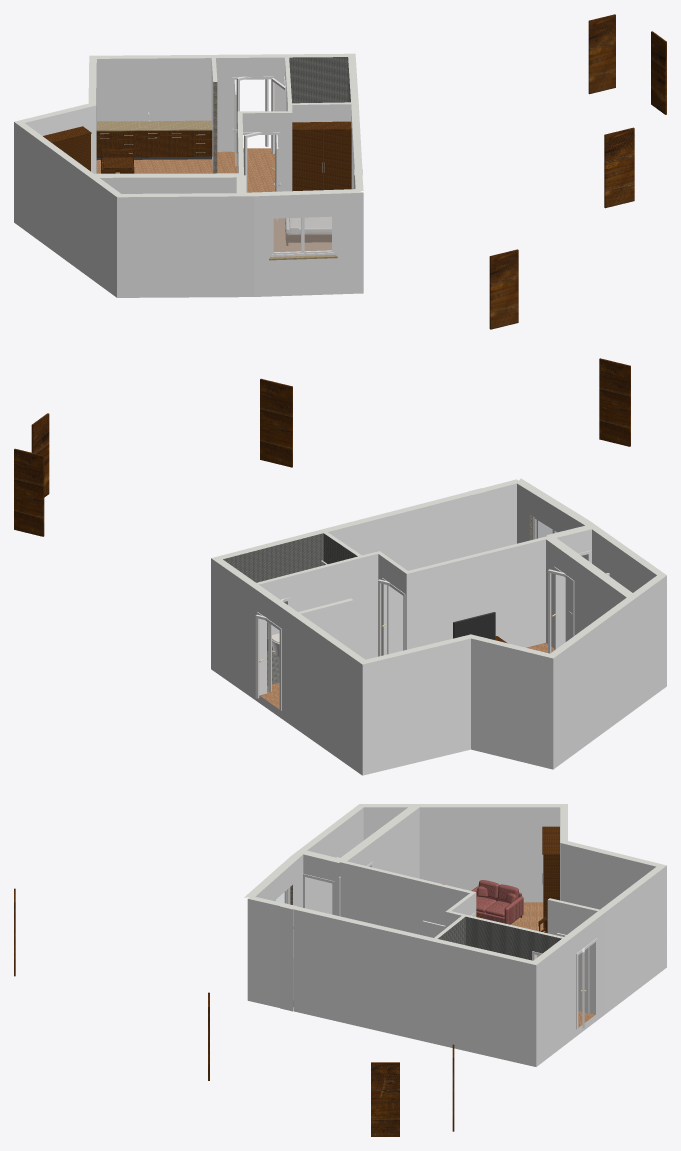
The model's file is apartment_with_doors.glb.
3 views of the same model, one above another, from view 1: azimuth 30°, elevation 25°; view 2: azimuth 150°, elevation 25°; view 3: azimuth 270°, elevation 25° (orthographic). The views are drawn at different scales.
Visible parts, largest first — view 1: f_jjm66qyl26:#ffffff, f_jjm66qyl26:arch:cap, wardrobe_2:wood.001, f_jjm66qyl26:oak, counter_straight:cabinets, f_jjm66qyl26:tile_white, Door_Bedroom_Leaf, Door_Living_Corridor_Leaf, Door_Kitchen_Leaf, f_jjm66qyl26:arch:glass, counter_straight:countertop, Door_Bathroom_Leaf (+2 smaller); view 2: f_jjm66qyl26:#ffffff, f_jjm66qyl26:arch:cap, f_jjm66qyl26:tile_white, Door_Bedroom_Leaf, Door_Living_Corridor_Leaf, Door_Kitchen_Leaf, Door_Bathroom_Leaf, tv_unit:screen; view 3: f_jjm66qyl26:#ffffff, f_jjm66qyl26:arch:cap, f_jjm66qyl26:tile_white, Door_Bathroom_Leaf, sofa_3:upholstery, wardrobe_2:wood, f_jjm66qyl26:oak.
Part boxes in pixels (box(x1,y1,x2,y2)): f_jjm66qyl26:#ffffff: box(14, 57, 363, 297); f_jjm66qyl26:arch:cap: box(14, 53, 363, 197); wardrobe_2:wood.001: box(292, 121, 354, 191); f_jjm66qyl26:oak: box(96, 148, 331, 252); counter_straight:cabinets: box(96, 130, 212, 157); f_jjm66qyl26:tile_white: box(289, 57, 350, 103); Door_Bedroom_Leaf: box(604, 127, 634, 208); Door_Living_Corridor_Leaf: box(489, 249, 518, 329); Door_Kitchen_Leaf: box(588, 14, 615, 94); f_jjm66qyl26:arch:glass: box(273, 216, 331, 252); counter_straight:countertop: box(96, 120, 212, 131); Door_Bathroom_Leaf: box(651, 31, 666, 114); f_jjm66qyl26:#ffffff: box(211, 483, 666, 775); f_jjm66qyl26:arch:cap: box(211, 478, 666, 664); f_jjm66qyl26:tile_white: box(223, 533, 357, 651); Door_Bedroom_Leaf: box(260, 378, 292, 467); Door_Living_Corridor_Leaf: box(599, 358, 630, 446); Door_Kitchen_Leaf: box(14, 448, 44, 536); Door_Bathroom_Leaf: box(31, 413, 49, 497); tv_unit:screen: box(454, 613, 495, 639); f_jjm66qyl26:#ffffff: box(247, 807, 666, 1066); f_jjm66qyl26:arch:cap: box(244, 804, 666, 964); f_jjm66qyl26:tile_white: box(438, 916, 561, 960); Door_Bathroom_Leaf: box(371, 1062, 399, 1136); sofa_3:upholstery: box(471, 880, 523, 924); wardrobe_2:wood: box(542, 826, 559, 930); f_jjm66qyl26:oak: box(293, 902, 595, 1027).
Bounding box in the file's own units: 16.74 × 3.35 × 16.82.
Materials: 44 (25 with a texture image).
